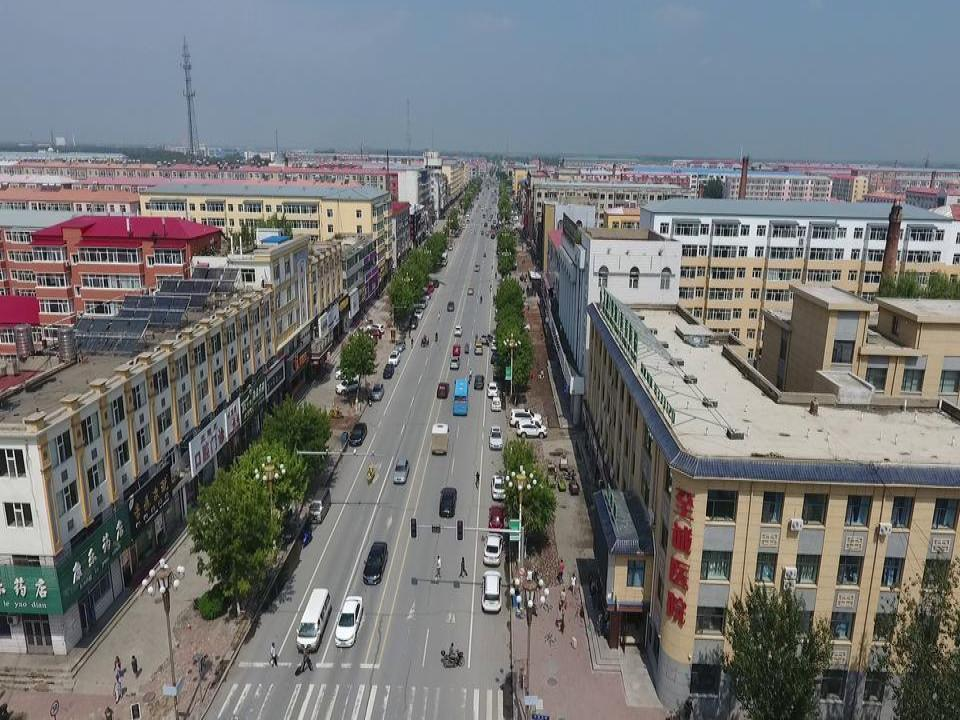bus: (452, 379, 470, 417), (439, 250, 448, 266)
car: (334, 595, 363, 648), (362, 540, 389, 585), (481, 568, 503, 615), (259, 519, 295, 545), (482, 532, 504, 567), (438, 486, 457, 518), (516, 419, 548, 438), (487, 503, 505, 533), (392, 456, 410, 485), (348, 421, 367, 447), (334, 377, 360, 396), (491, 474, 508, 502), (487, 424, 504, 451), (334, 364, 360, 380), (370, 383, 385, 401), (490, 351, 509, 365), (436, 381, 450, 399), (387, 349, 401, 367), (363, 327, 382, 340), (473, 373, 485, 391), (365, 323, 386, 333), (382, 362, 395, 378), (490, 396, 502, 412), (486, 382, 498, 397), (449, 356, 461, 371), (408, 314, 419, 330), (479, 333, 494, 344), (417, 296, 428, 311), (394, 339, 406, 352), (452, 324, 463, 337), (473, 341, 483, 355), (413, 308, 424, 320), (451, 343, 461, 356), (422, 289, 432, 302), (491, 338, 500, 350), (446, 300, 455, 312), (426, 284, 435, 293), (432, 279, 440, 288), (467, 285, 474, 295)
van: (295, 587, 332, 653), (308, 487, 331, 524), (509, 408, 543, 428), (431, 421, 449, 456), (473, 263, 480, 273)
